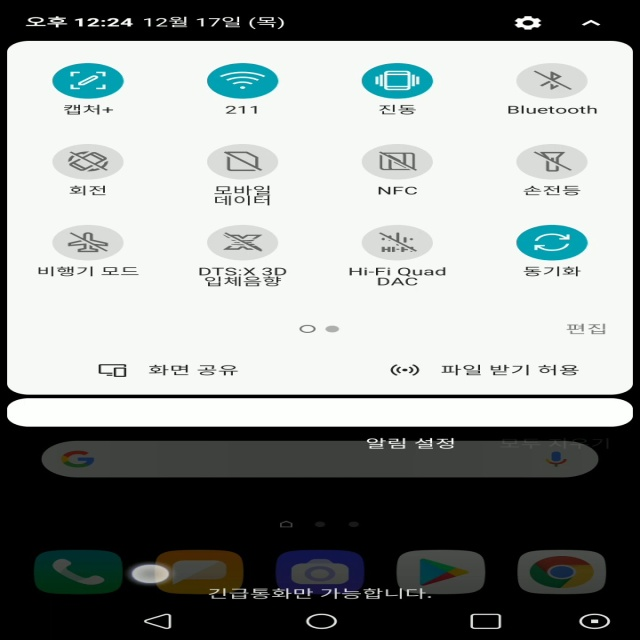Cursor: (128, 564, 173, 586)
